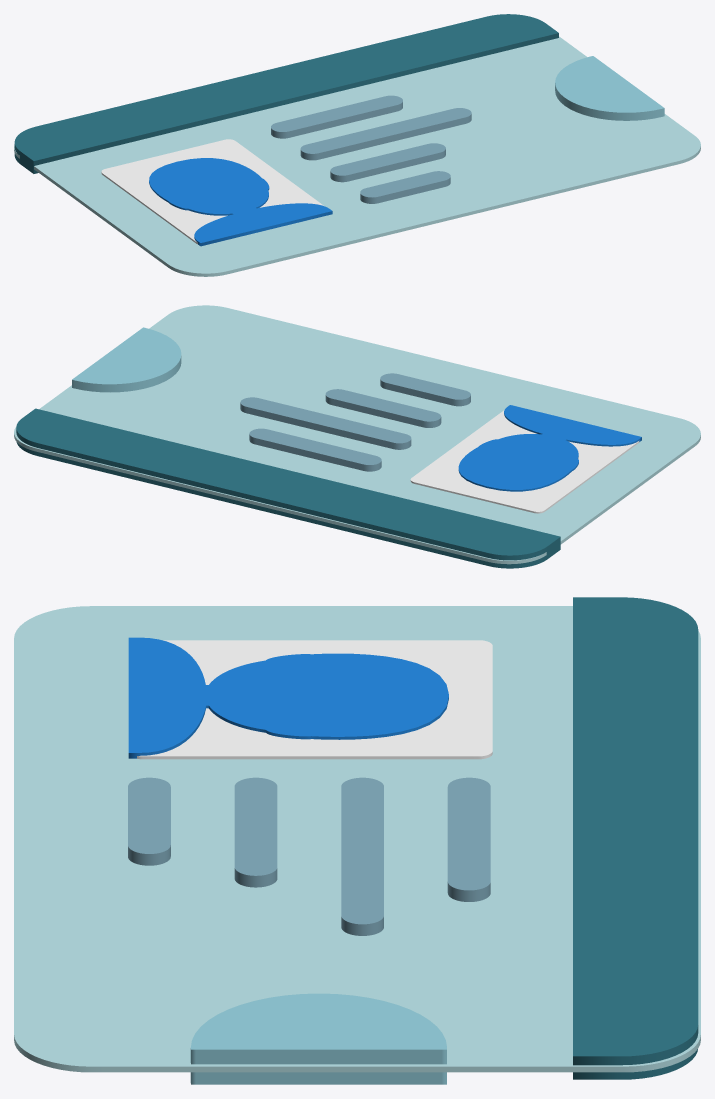
Rendered from emoji_u1faaa.glb.
3 views of the same model, one above another, from view 1: azimuth 30°, elevation 25°; view 2: azimuth 150°, elevation 25°; view 3: azimuth 270°, elevation 25° (orthographic). The views are drawn at different scales.
Visible parts, largest first — view 1: emoji_u1faaa; view 2: emoji_u1faaa; view 3: emoji_u1faaa.
Boxes of the visible parts, <box> form: emoji_u1faaa: <box>14,14,700,276</box>; emoji_u1faaa: <box>14,305,700,568</box>; emoji_u1faaa: <box>14,597,700,1084</box>.
Bounding box in the file's own units: 0.0339 × 0.0012 × 0.0214.
